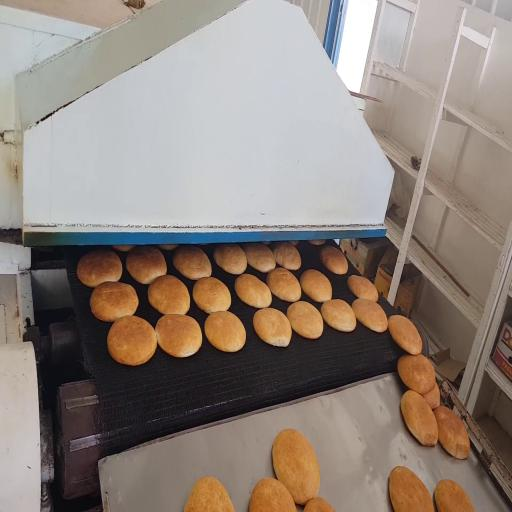bread: (272, 430, 319, 504), (108, 316, 157, 365), (401, 390, 438, 446), (155, 314, 202, 357), (390, 467, 434, 511), (90, 282, 138, 321), (434, 406, 470, 458), (184, 477, 234, 511), (77, 250, 122, 287), (205, 311, 245, 352), (148, 275, 190, 314), (126, 246, 166, 284), (250, 478, 296, 511), (253, 308, 291, 347), (398, 355, 435, 394), (193, 277, 231, 313), (388, 315, 422, 355), (287, 302, 323, 339), (173, 246, 211, 280), (235, 274, 271, 308), (435, 480, 474, 511), (267, 268, 301, 302), (352, 299, 387, 332), (321, 299, 356, 332), (300, 269, 332, 302), (214, 244, 247, 274), (243, 243, 275, 273), (348, 275, 378, 302), (320, 246, 348, 274), (273, 242, 301, 270), (304, 497, 335, 511), (423, 384, 440, 409), (113, 245, 134, 252), (158, 244, 177, 250), (309, 240, 325, 245), (291, 241, 298, 246)
